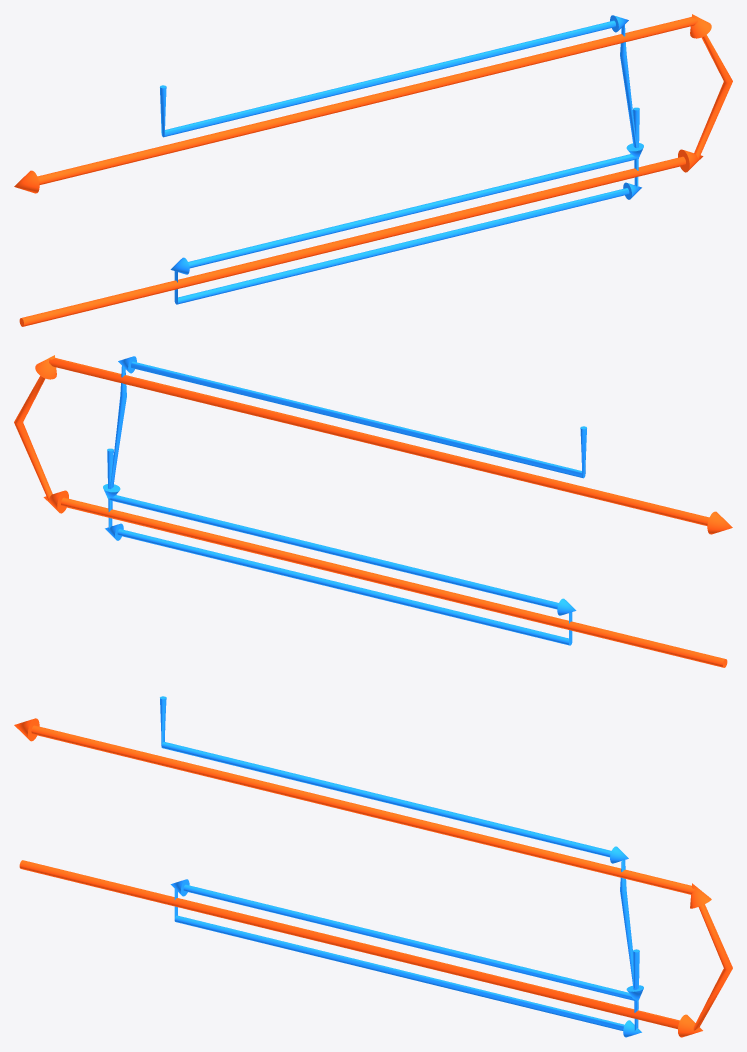
Rendered from double_pipe_heat_exchanger_flow.glb.
3 renders of one model, top to bottom at view 1: azimuth 30°, elevation 25°; view 2: azimuth 150°, elevation 25°; view 3: azimuth 330°, elevation 25°, orthographic.
Parts seen in each view (by area): view 1: hot_tube_side, cold_annulus; view 2: hot_tube_side, cold_annulus; view 3: hot_tube_side, cold_annulus.
Part boxes in pixels (left/top/right/bottom): hot_tube_side: left=14, top=14, right=732, bottom=326; cold_annulus: left=160, top=15, right=643, bottom=304; hot_tube_side: left=14, top=355, right=732, bottom=667; cold_annulus: left=103, top=356, right=586, bottom=645; hot_tube_side: left=14, top=718, right=732, bottom=1037; cold_annulus: left=160, top=696, right=643, bottom=1037.
Bounding box in the file's own units: 2.19 × 0.6564 × 0.0624.
